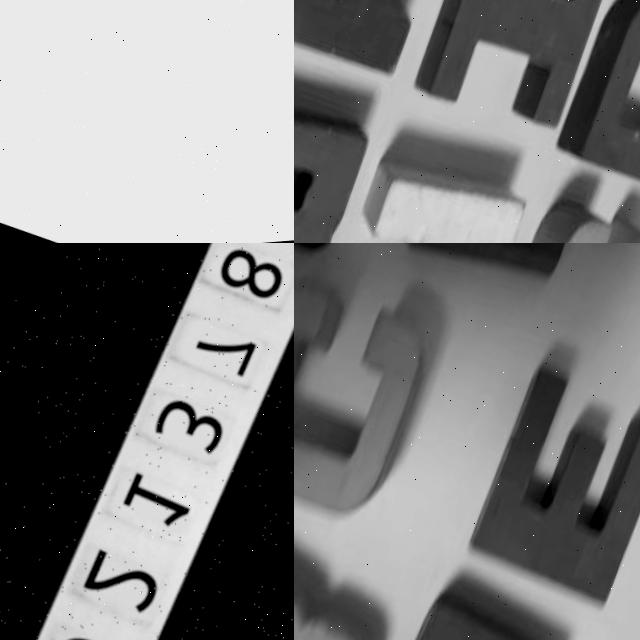0: (19, 610, 148, 640)
1: (89, 458, 212, 571)
2: (47, 530, 182, 640)
3: (121, 378, 248, 495)
7: (163, 310, 276, 413)
8: (187, 243, 294, 341)
C: (294, 257, 447, 530), (469, 189, 640, 243)
D: (549, 0, 640, 210)
E: (447, 351, 640, 626)
H: (294, 139, 533, 243)
I: (398, 0, 630, 145)
L: (0, 0, 294, 171)
M: (294, 52, 385, 243)
N: (294, 0, 481, 97)
W: (341, 583, 576, 640)
